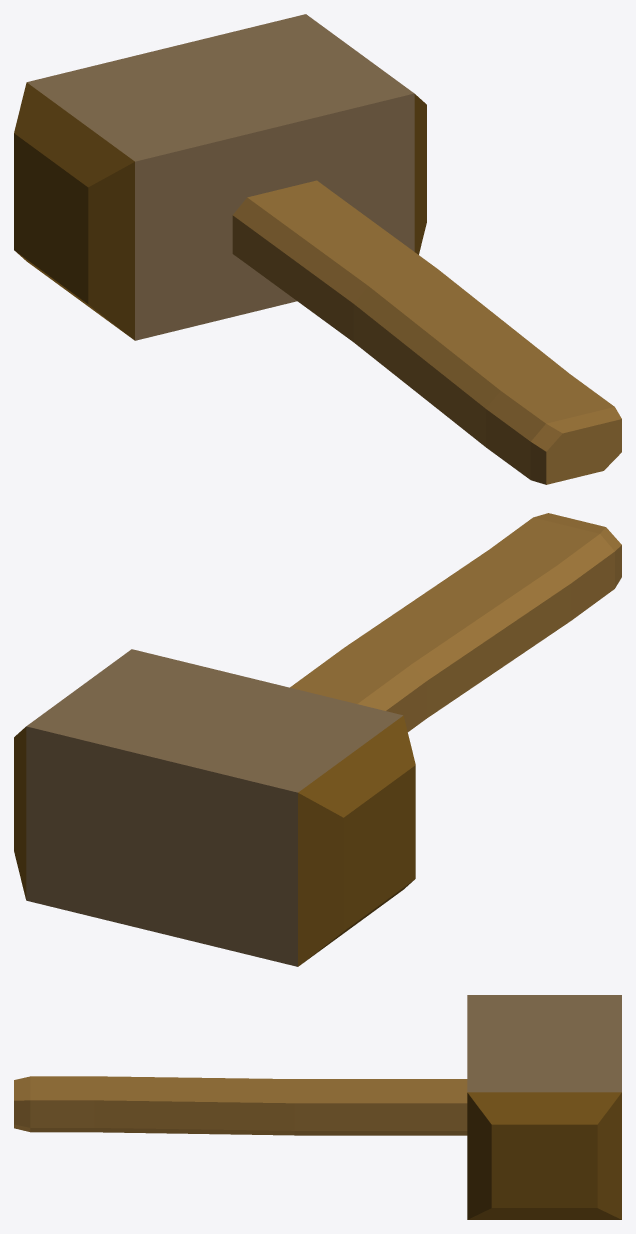
The model's file is Wood_Hammer.fbx.
The picture shows the model from 3 angles, top to bottom: view 1: azimuth 30°, elevation 25°; view 2: azimuth 150°, elevation 25°; view 3: azimuth 270°, elevation 25°; orthographic projection. The views are drawn at different scales.
Visible parts, largest first — view 1: Obj_Wood_Hammer; view 2: Obj_Wood_Hammer; view 3: Obj_Wood_Hammer.
Boxes of the visible parts, box(x1,y1,x2,y2) form: Obj_Wood_Hammer: box(14, 14, 621, 484); Obj_Wood_Hammer: box(14, 513, 621, 966); Obj_Wood_Hammer: box(14, 995, 621, 1219).
Size of the model in its own units: 20.21 by 10.21 by 44.05.
